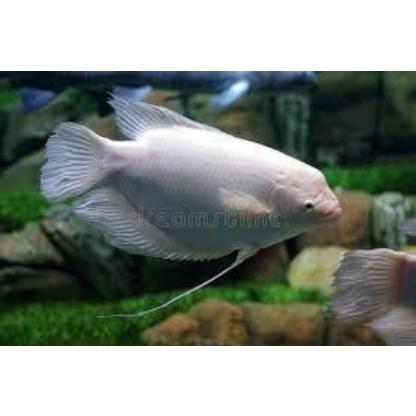gurame: (48, 95, 342, 273)
